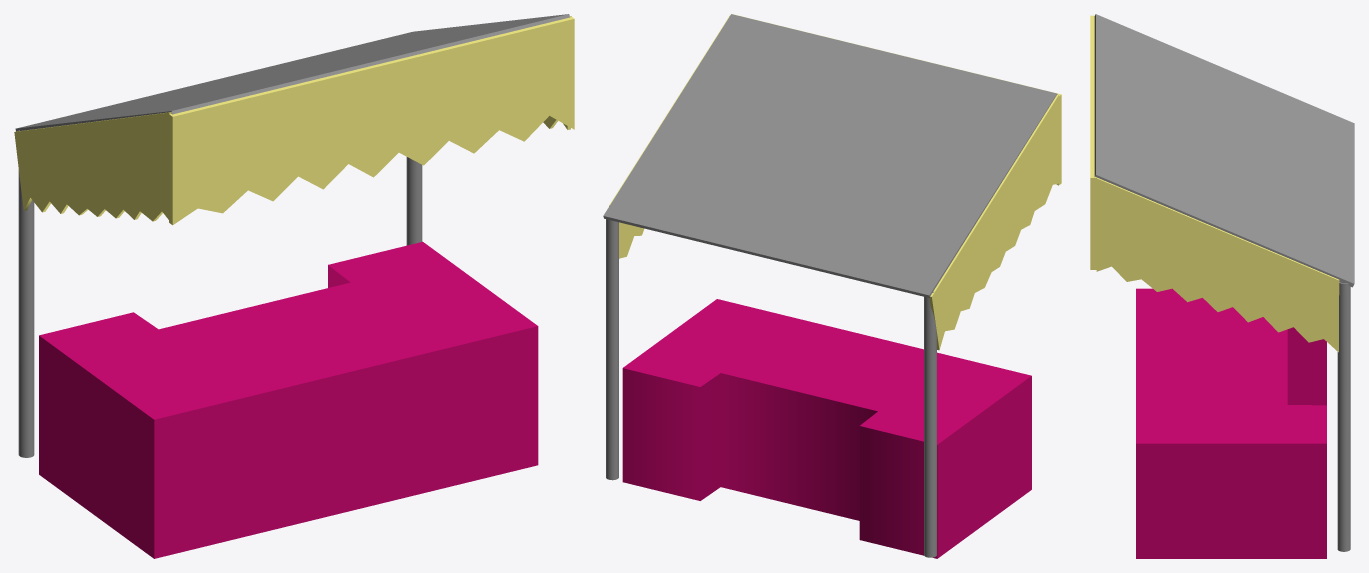
The model's file is YataiA.fbx.
3 views of the same model, side by side, from view 1: azimuth 30°, elevation 25°; view 2: azimuth 150°, elevation 25°; view 3: azimuth 270°, elevation 25° (orthographic). The views are drawn at different scales.
Parts seen in each view (by area): view 1: pCube1, polySurface1, polySurface3, polySurface4, pCylinder3, pCylinder2; view 2: polySurface4, pCube1, polySurface3, pCylinder2, pCylinder3, polySurface2; view 3: pCube1, polySurface4, polySurface2, pCylinder2, polySurface1.
Part boxes in pixels (left/top/right/bottom): pCube1: left=39, top=241, right=538, bottom=558; polySurface1: left=169, top=16, right=574, bottom=225; polySurface3: left=14, top=112, right=171, bottom=221; polySurface4: left=15, top=14, right=569, bottom=131; pCylinder3: left=18, top=130, right=34, bottom=457; pCylinder2: left=406, top=157, right=422, bottom=245; polySurface4: left=603, top=14, right=1057, bottom=297; pCube1: left=622, top=299, right=1031, bottom=558; polySurface3: left=929, top=94, right=1058, bottom=350; pCylinder2: left=606, top=219, right=618, bottom=480; pCylinder3: left=924, top=291, right=936, bottom=557; polySurface2: left=609, top=15, right=730, bottom=258; pCube1: left=1136, top=288, right=1326, bottom=558; polySurface4: left=1094, top=14, right=1354, bottom=287; polySurface2: left=1095, top=177, right=1339, bottom=352; pCylinder2: left=1337, top=282, right=1350, bottom=551; polySurface1: left=1090, top=15, right=1096, bottom=269.
Bounding box in the file's own units: 1.35 × 1.5 × 0.9251.
